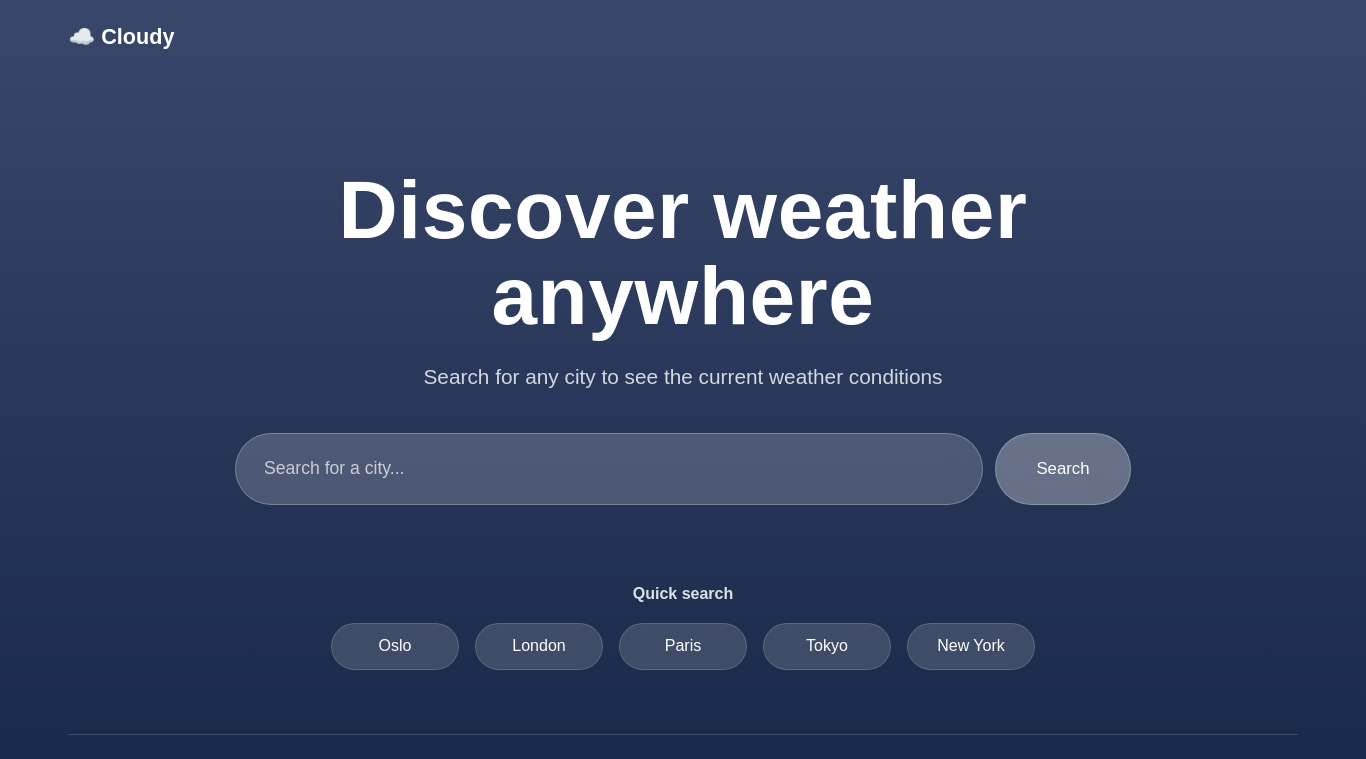
App › returns to the welcome screen when weather is closed
Type "Oslo" into the dropdown at {"x": 609, "y": 469}, box [235, 433, 983, 505]
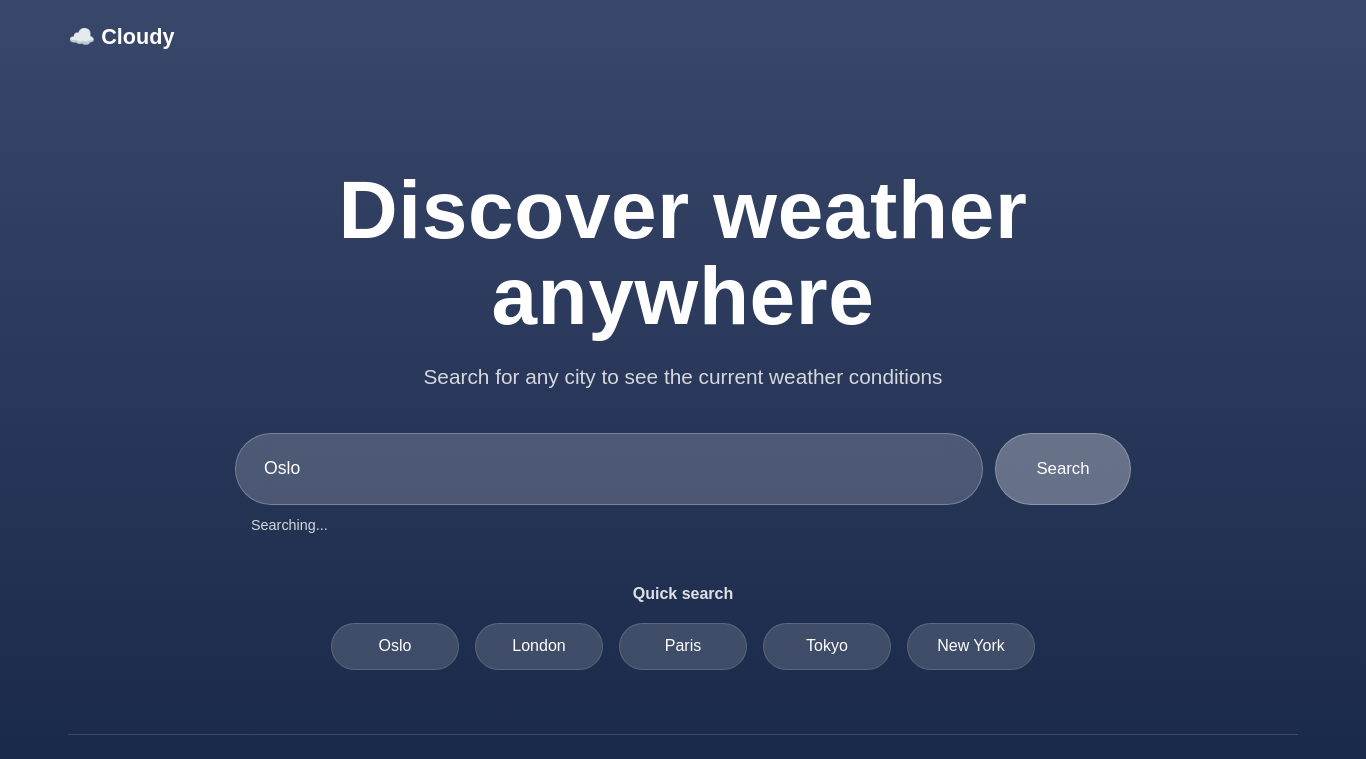
Click the button "Search" at {"x": 1063, "y": 469}, box [995, 433, 1131, 505]
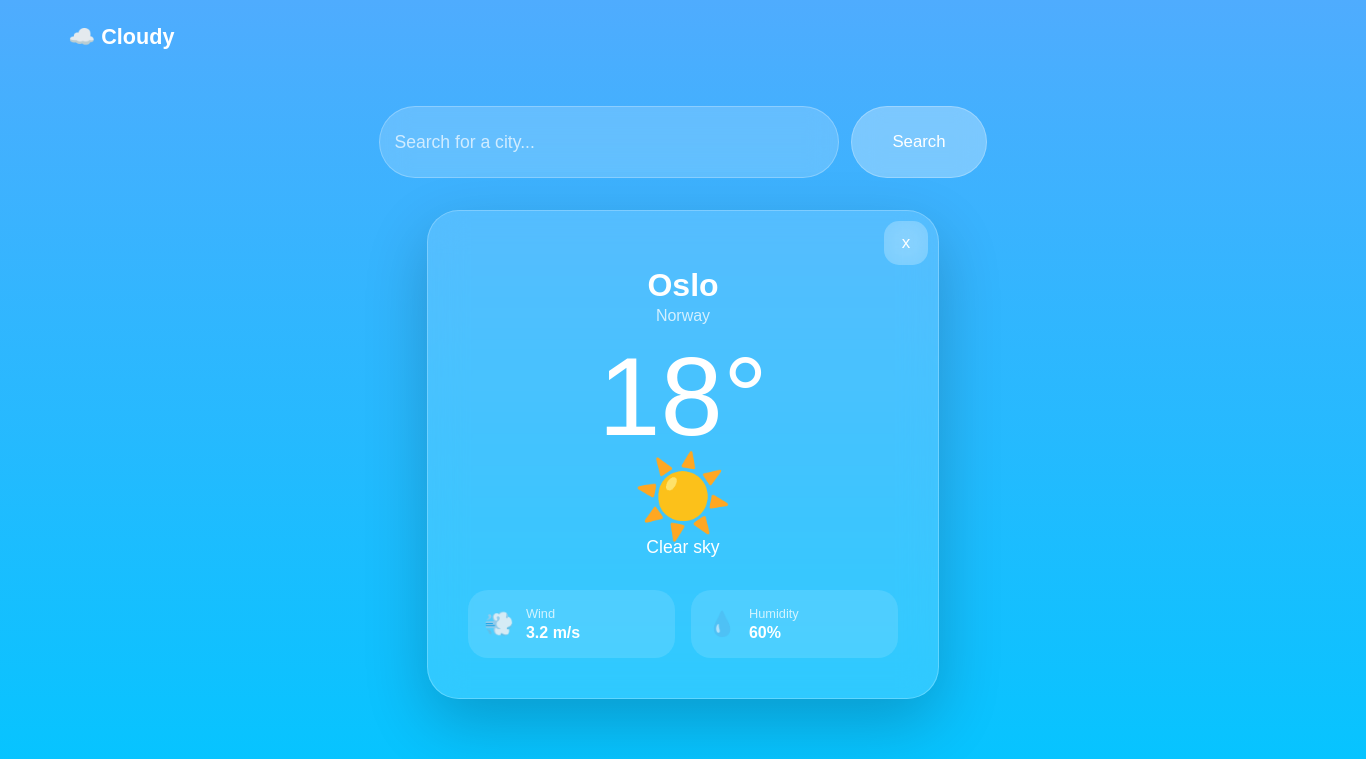
Expected: the heading "Oslo" is shown, [647, 267, 718, 303]
Click the button named "Close weather" at {"x": 906, "y": 243}, box [884, 221, 928, 265]
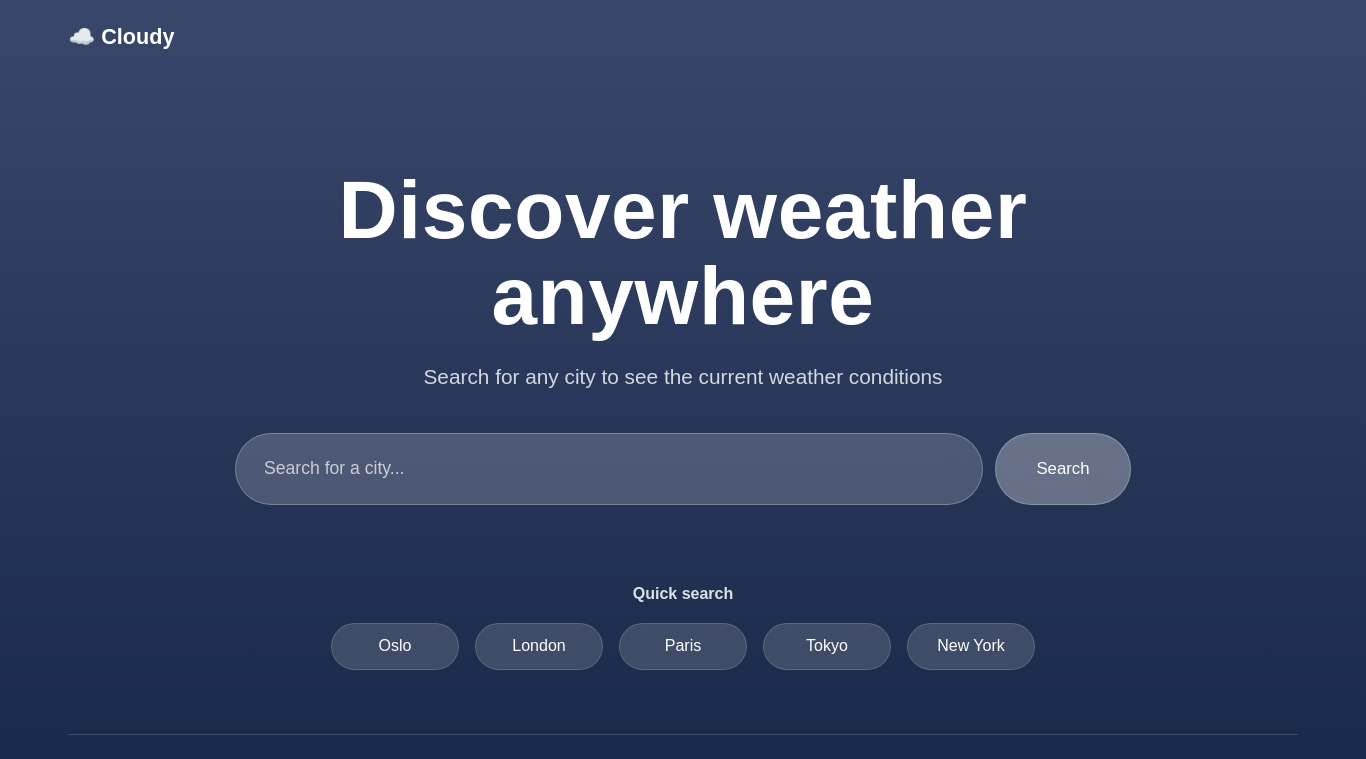
Result: the heading "Discover weather anywhere" is shown at [338, 164, 1028, 341]
